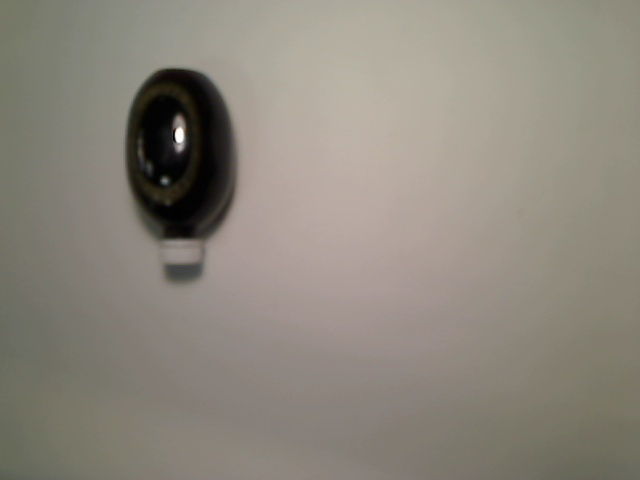plast_bottle: (125, 66, 241, 268)
